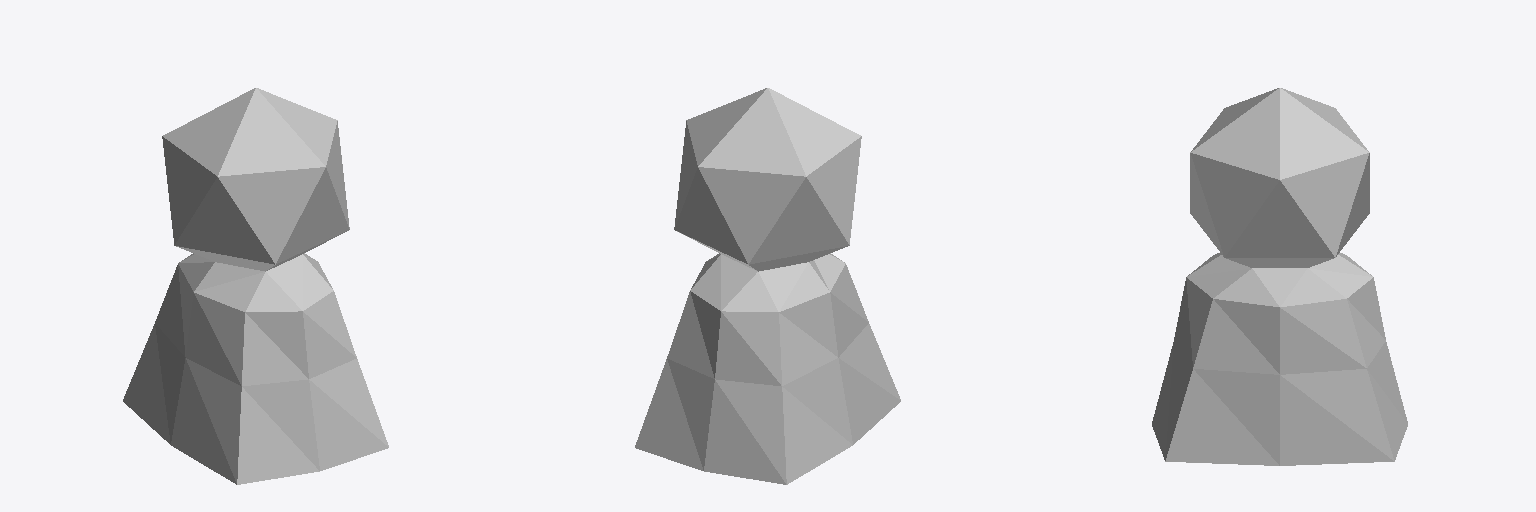
Rendered from person.obj.
3 views of the same model, side by side, from view 1: azimuth 30°, elevation 25°; view 2: azimuth 150°, elevation 25°; view 3: azimuth 270°, elevation 25° (orthographic).
Visible parts, largest first — view 1: Cube; view 2: Cube; view 3: Cube.
Part boxes in pixels (left/top/right/bottom): Cube: left=123, top=88, right=388, bottom=484; Cube: left=635, top=88, right=900, bottom=484; Cube: left=1152, top=88, right=1407, bottom=465.
Bounding box in the file's own units: 1.25 × 2.36 × 1.63.